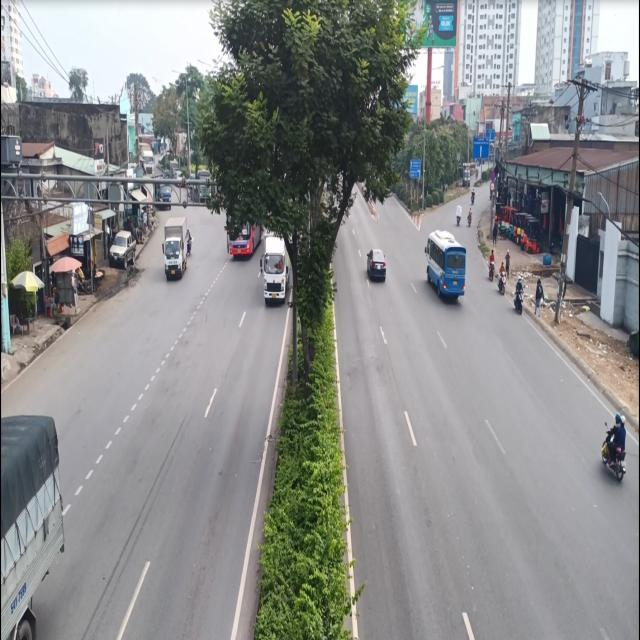bus: (421, 223, 472, 313)
car: (364, 237, 388, 287)
motorbike: (602, 402, 633, 491)
truck: (160, 208, 188, 284)
